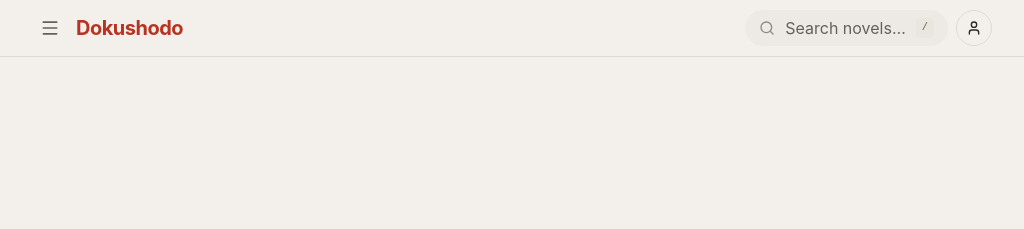
Test: Header navigation consistency › renders desktop header nav items when guest (Home lives in the fixed sidebar)
This screenshot has width=1024, height=229.
expect the button "Search novels… /" is shown: met, box [745,10,948,46]
// Open dropdown to check guest items
Click the button named "user account and theme menu" at (974, 28), box [956,10,992,46]
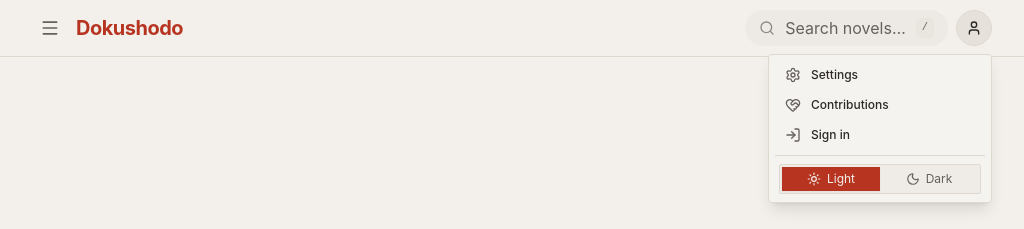
expect the button named "open navigation menu" is shown: met, box [32,10,68,46]
expect the element named "theme selection" is shown: met, box [779,164,981,194]
